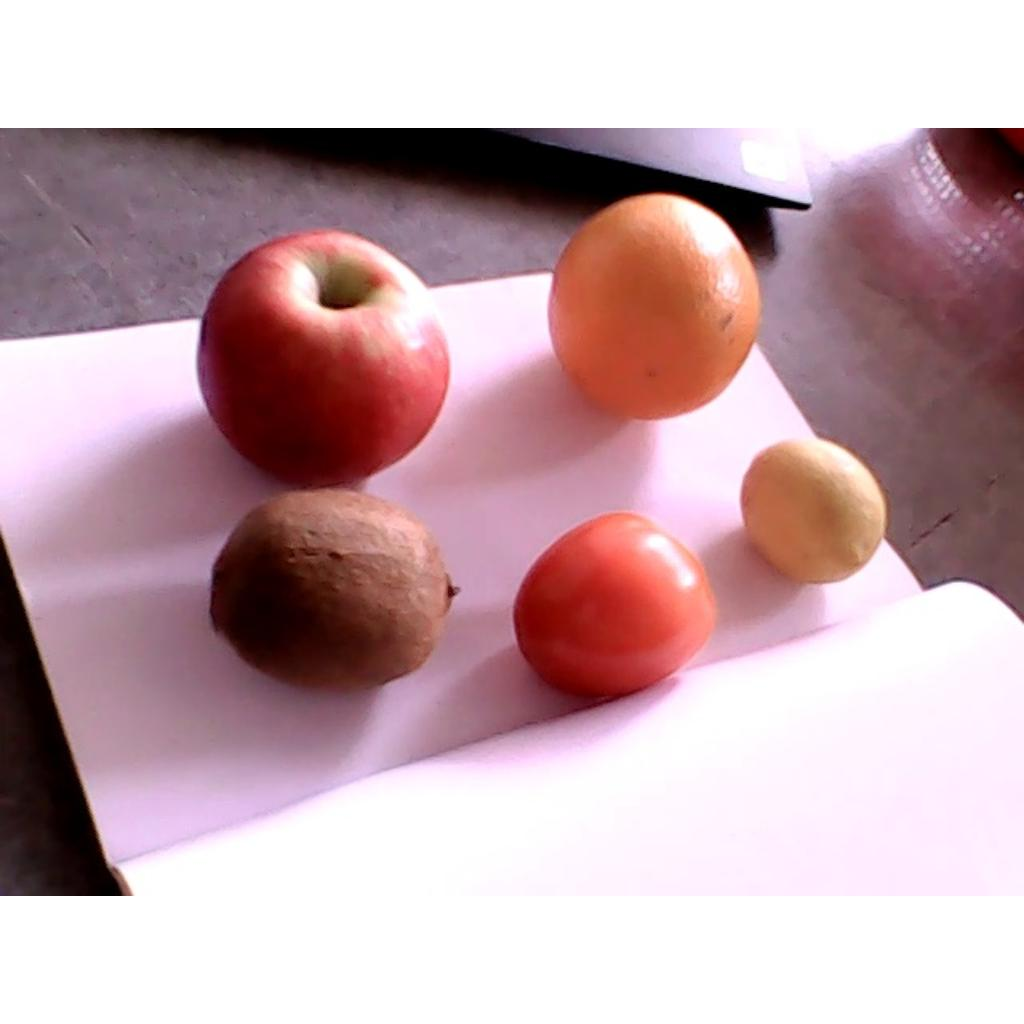apple: (199, 231, 450, 492)
kiwi: (209, 488, 460, 690)
lemon: (740, 439, 886, 583)
orange: (548, 194, 760, 419)
tomato: (513, 512, 719, 697)
